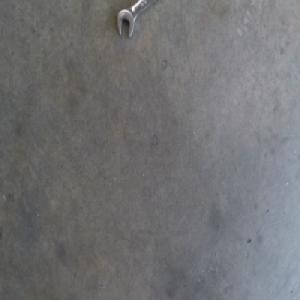Wrench: (117, 0, 153, 37)
